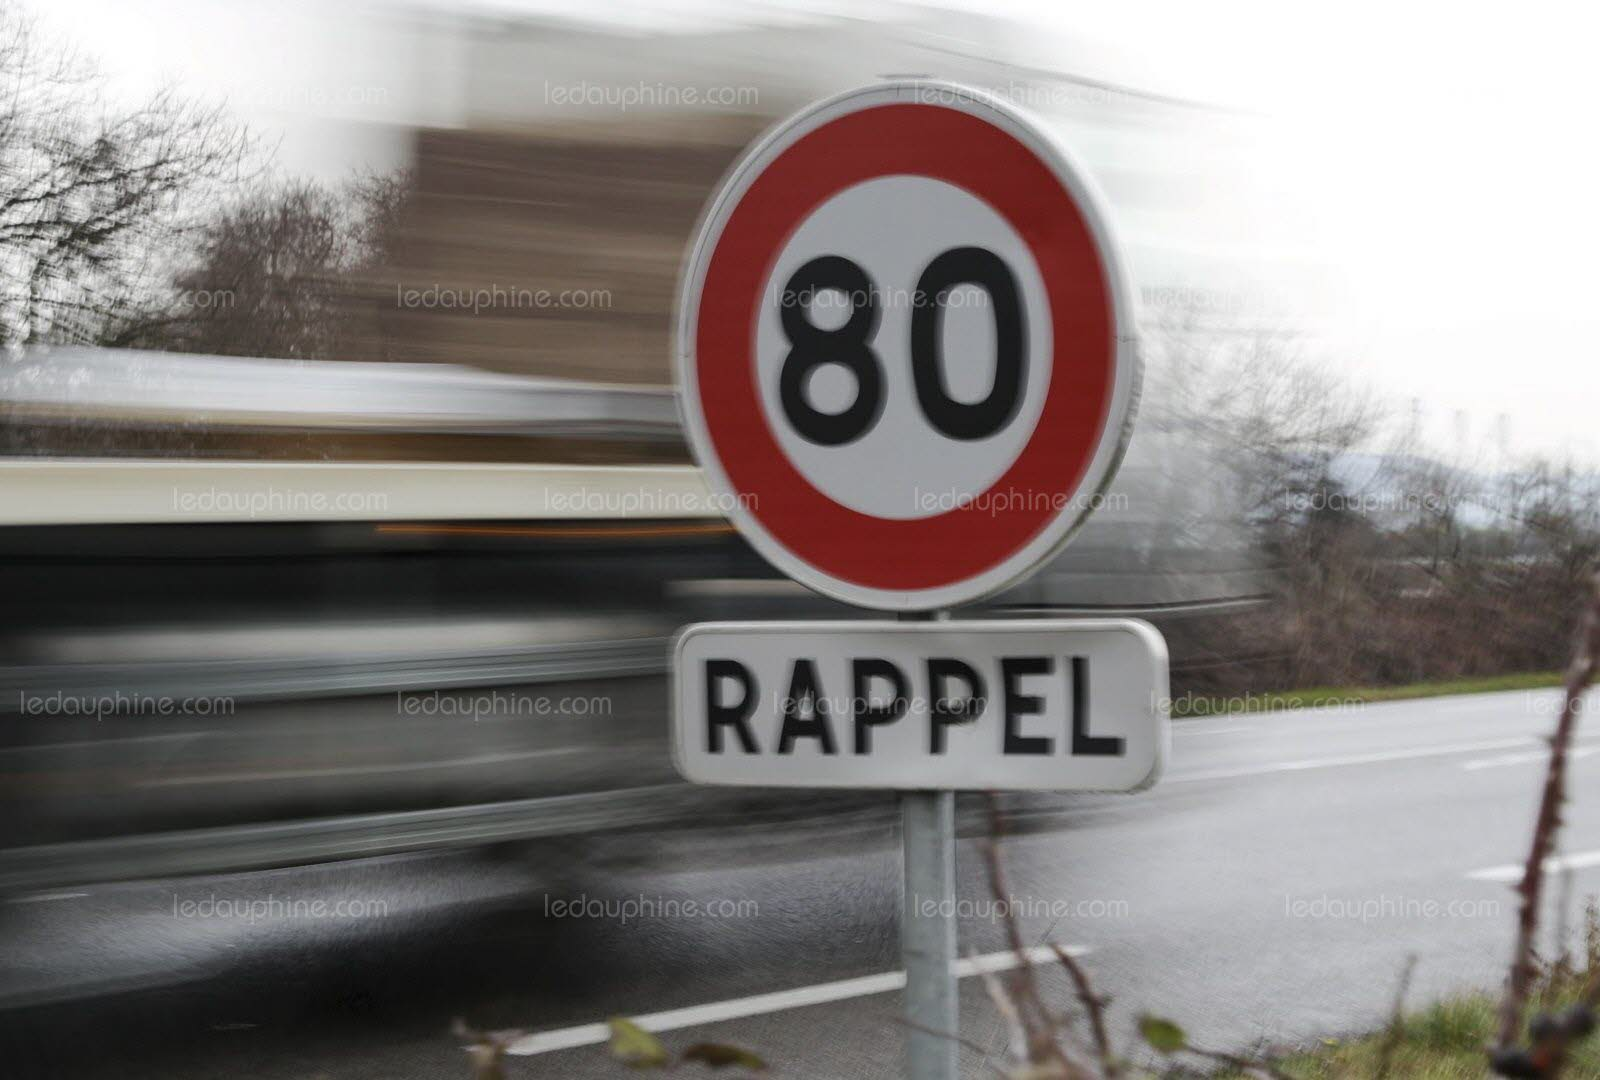Speed_limit_80km: (667, 80, 1139, 611)
